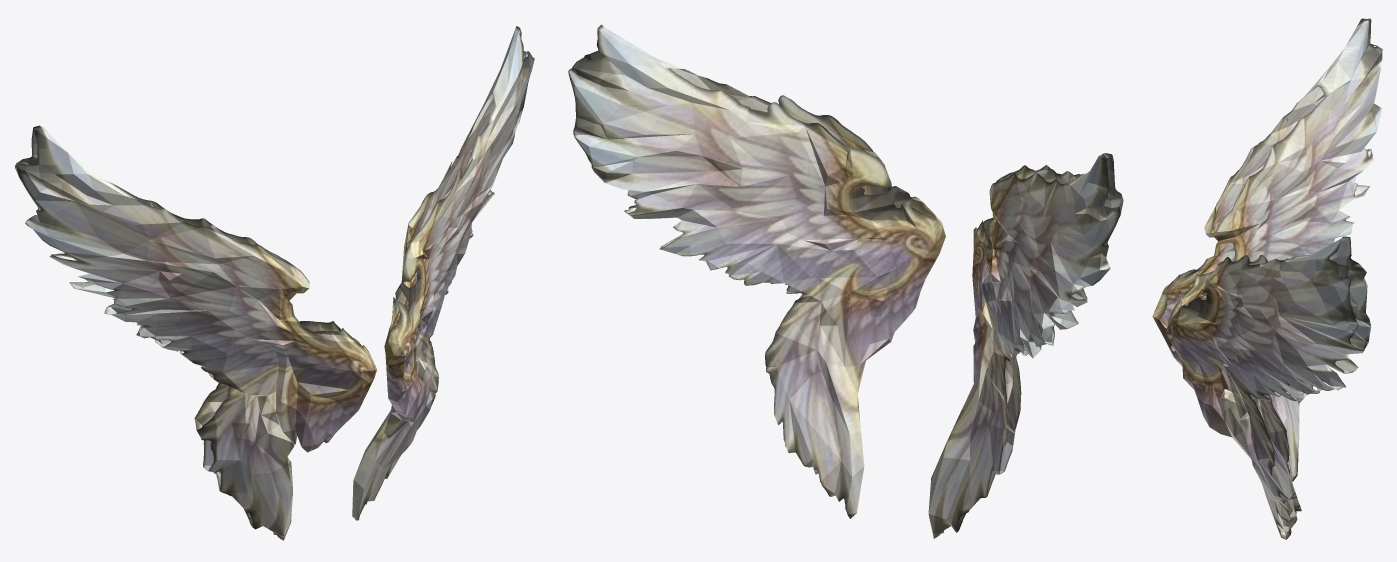
File: angelic-lite.glb
The picture shows the model from 3 angles, left to right: view 1: azimuth 30°, elevation 25°; view 2: azimuth 150°, elevation 25°; view 3: azimuth 270°, elevation 25°; orthographic projection. The views are drawn at different scales.
Parts seen in each view (by area): view 1: geometry_0; view 2: geometry_0; view 3: geometry_0.
Part boxes in pixels (box(x1,y1,x2,y2)): geometry_0: box(15, 26, 534, 540); geometry_0: box(568, 24, 1123, 538); geometry_0: box(1152, 18, 1382, 539).
Bounding box in the file's own units: 0.9865 × 0.8148 × 0.4165.
Materials: 1 (1 with a texture image).
